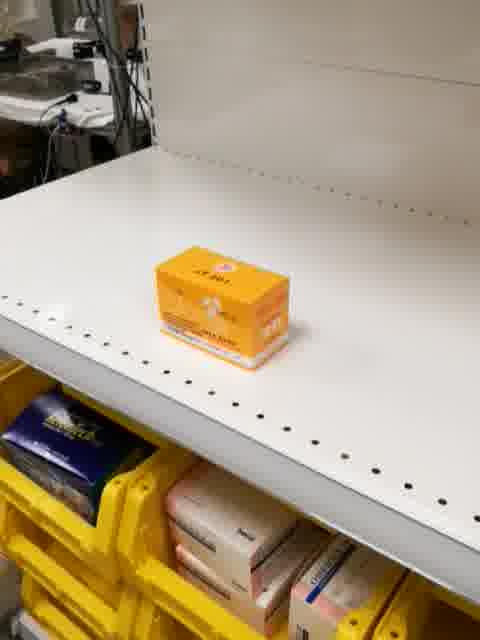jasminetea: (153, 243, 292, 373)
